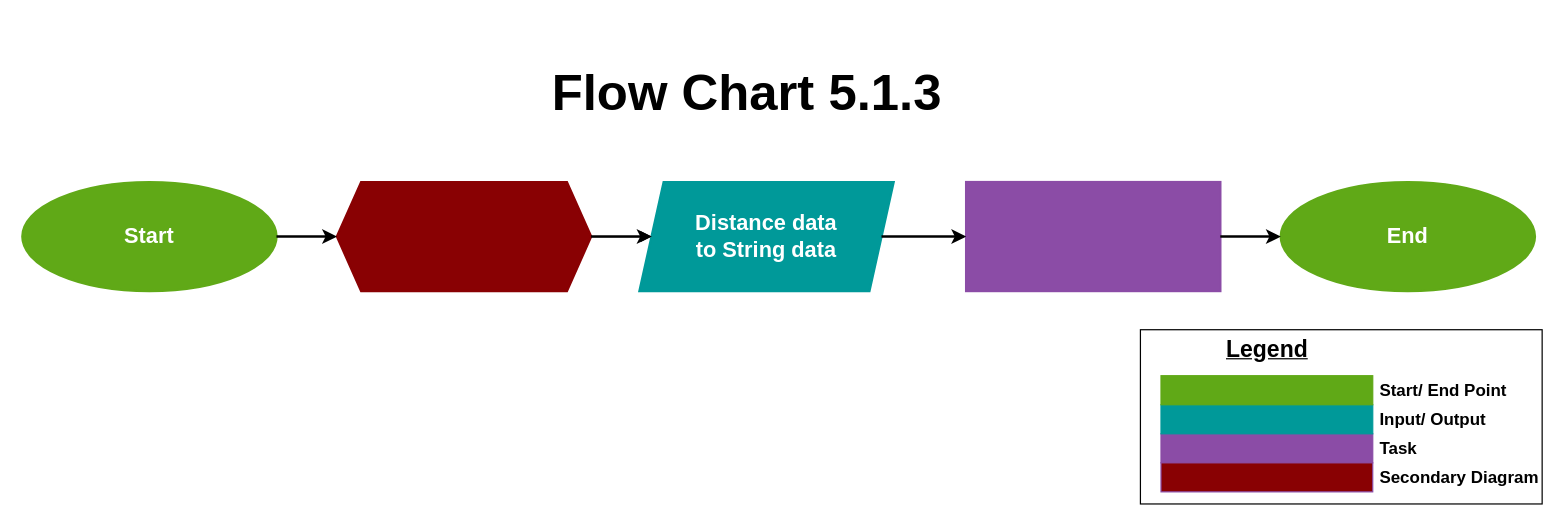
The diagram is 1563 pixels wide and 525 high, and some of its shapes have lost their labels. Each missing label, with the box of its shape:
Send string data to central MCU through CAN: (964, 180, 1221, 292)
Sensor measure the distance from objects: (335, 180, 592, 292)
